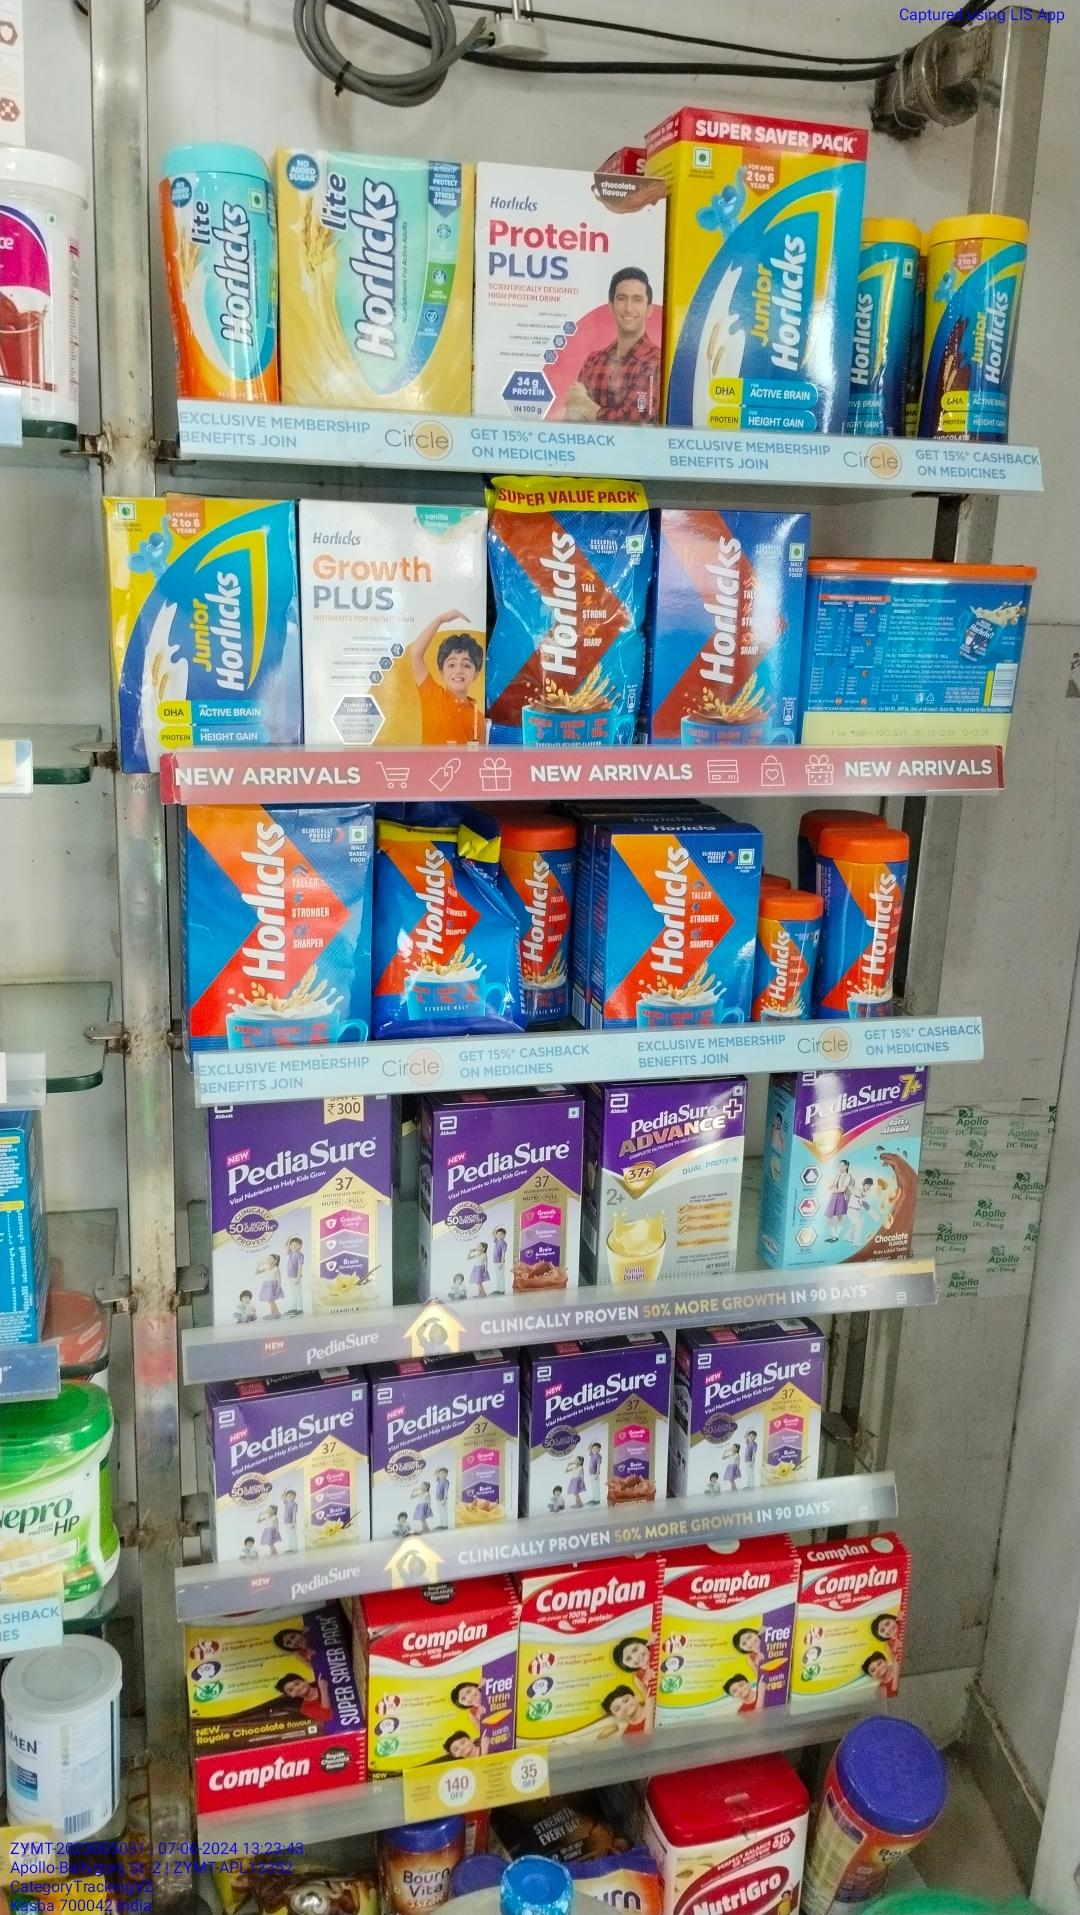PEDIASURE_7_PLUS_CHOCOLATE_400_G_PACK: (787, 1072, 933, 1264)
PEDIASURE_CHOCOLATE_500_G_PACK: (421, 1097, 591, 1301), (531, 1345, 672, 1515)
PEDIASURE_VANILLA_500_G_PACK: (209, 1093, 393, 1323), (606, 1088, 750, 1286), (210, 1385, 370, 1557), (693, 1342, 821, 1486)
